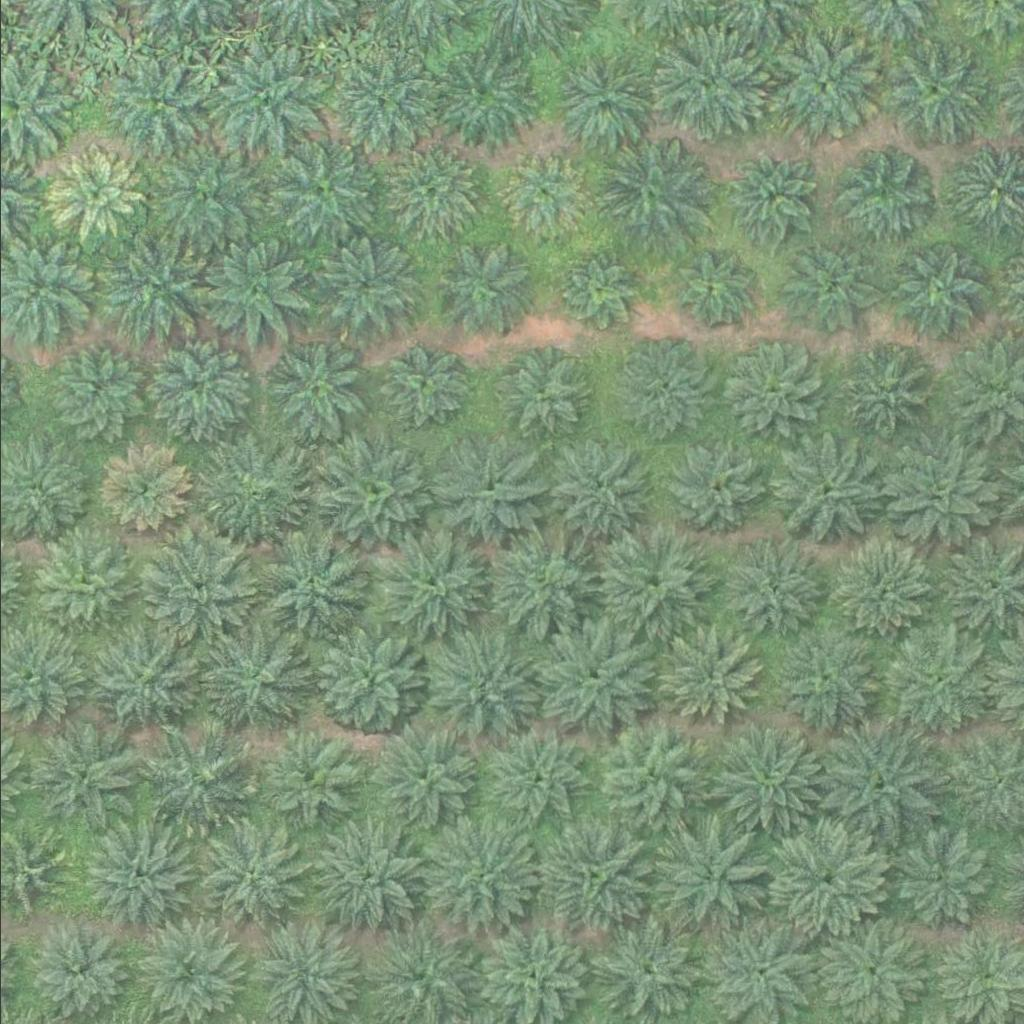Kelapa_Sawit: (426, 39, 540, 152), (321, 44, 435, 157), (267, 136, 381, 249), (141, 142, 255, 255), (196, 234, 310, 347), (595, 717, 709, 830), (537, 822, 651, 935), (419, 822, 533, 935), (769, 824, 882, 937), (657, 821, 770, 934), (820, 730, 933, 843), (708, 723, 821, 836), (884, 432, 997, 545), (768, 432, 881, 545), (656, 430, 769, 543), (881, 40, 994, 153), (543, 431, 656, 544), (430, 437, 543, 550), (316, 437, 429, 550), (375, 527, 488, 640), (249, 529, 362, 642), (139, 532, 252, 645), (307, 818, 420, 931), (189, 825, 302, 938), (86, 624, 199, 737), (99, 232, 212, 345), (654, 24, 768, 136), (208, 47, 322, 159), (880, 628, 993, 740), (767, 626, 880, 738), (765, 33, 878, 145), (590, 140, 703, 252), (194, 438, 307, 550), (597, 523, 710, 635), (481, 526, 594, 638), (537, 625, 650, 737), (425, 631, 538, 743), (313, 625, 426, 737), (200, 620, 313, 732), (370, 724, 483, 836), (140, 721, 253, 833), (86, 818, 199, 930), (27, 722, 140, 834), (660, 629, 761, 729), (828, 537, 929, 637), (722, 542, 823, 642), (832, 339, 933, 439), (885, 240, 986, 340), (836, 143, 937, 243), (552, 52, 653, 152), (436, 242, 537, 342), (311, 237, 412, 337), (486, 343, 587, 443), (263, 336, 364, 436), (259, 733, 360, 833), (33, 537, 134, 637), (47, 344, 148, 444), (887, 832, 987, 932), (717, 340, 817, 440), (613, 340, 713, 440), (781, 238, 881, 338), (148, 336, 248, 436), (482, 728, 582, 828), (108, 50, 208, 150), (496, 149, 584, 237), (556, 250, 644, 338), (380, 340, 468, 428), (99, 444, 187, 532), (727, 151, 815, 238), (391, 149, 479, 236), (34, 930, 122, 1017), (54, 151, 142, 238), (673, 250, 749, 325)
